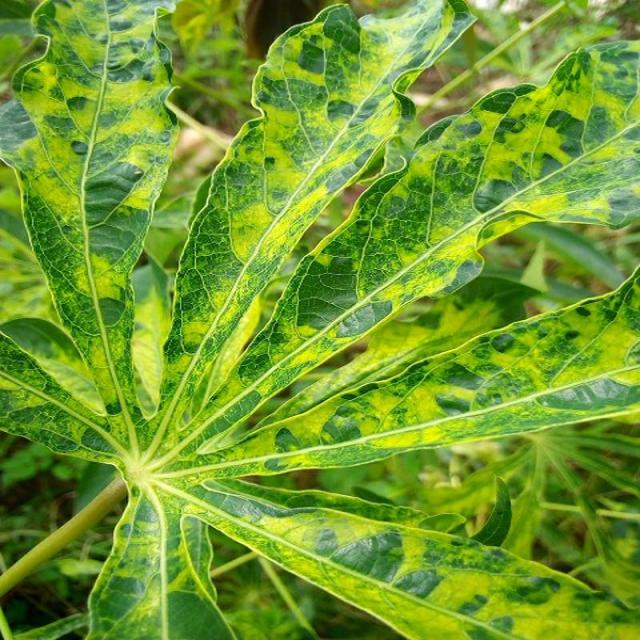cassava leaf: (0, 1, 638, 638), (0, 0, 182, 423)
